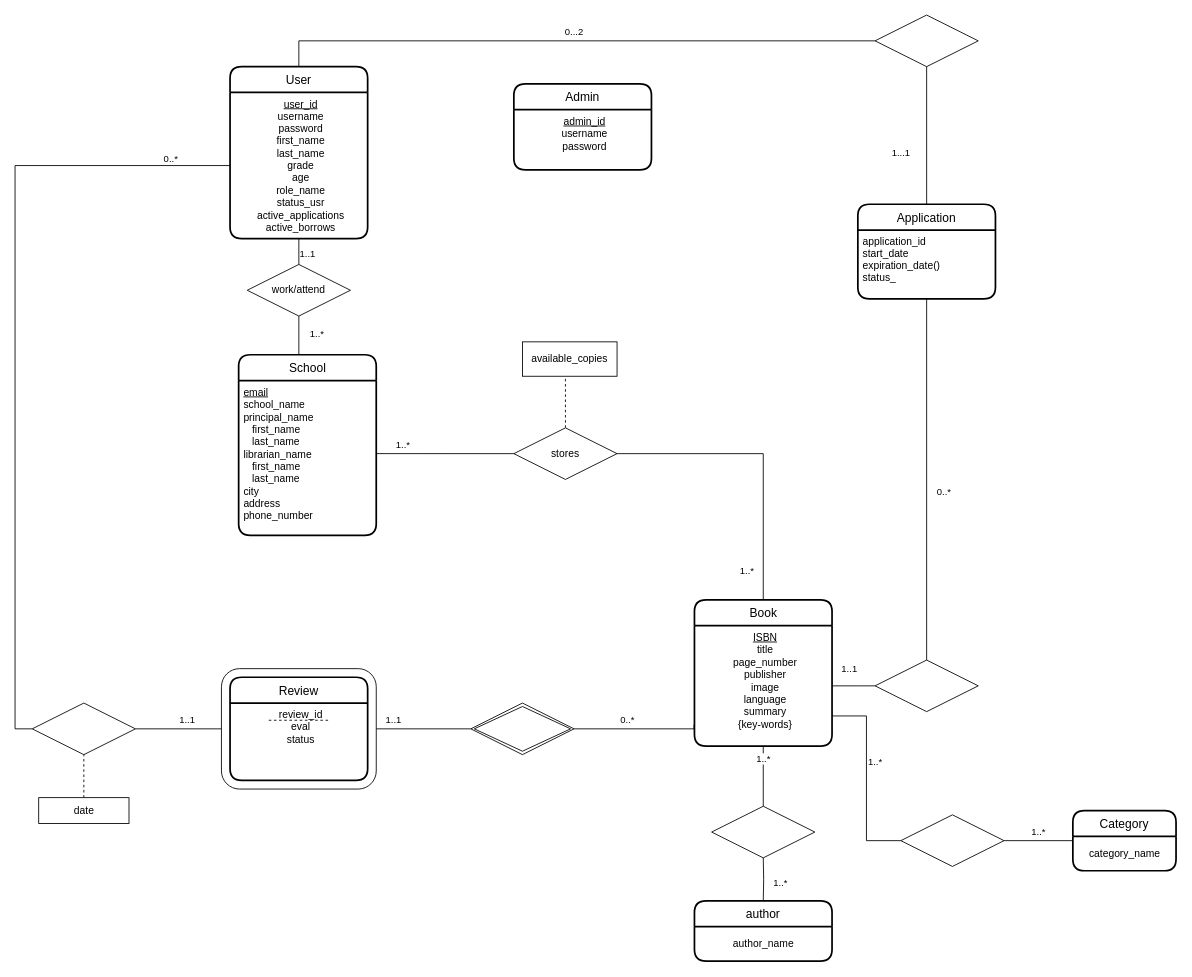
Some shapes in this 1192 by 977 pixel diagram are drawn without their labels. Here are the shapes that lost their labels. From the top down, the centre of each, then its label:
[926,40]: make
[926,685]: to borrow
[83,728]: give
[522,728]: has
[763,831]: writes
[952,840]: book_category
